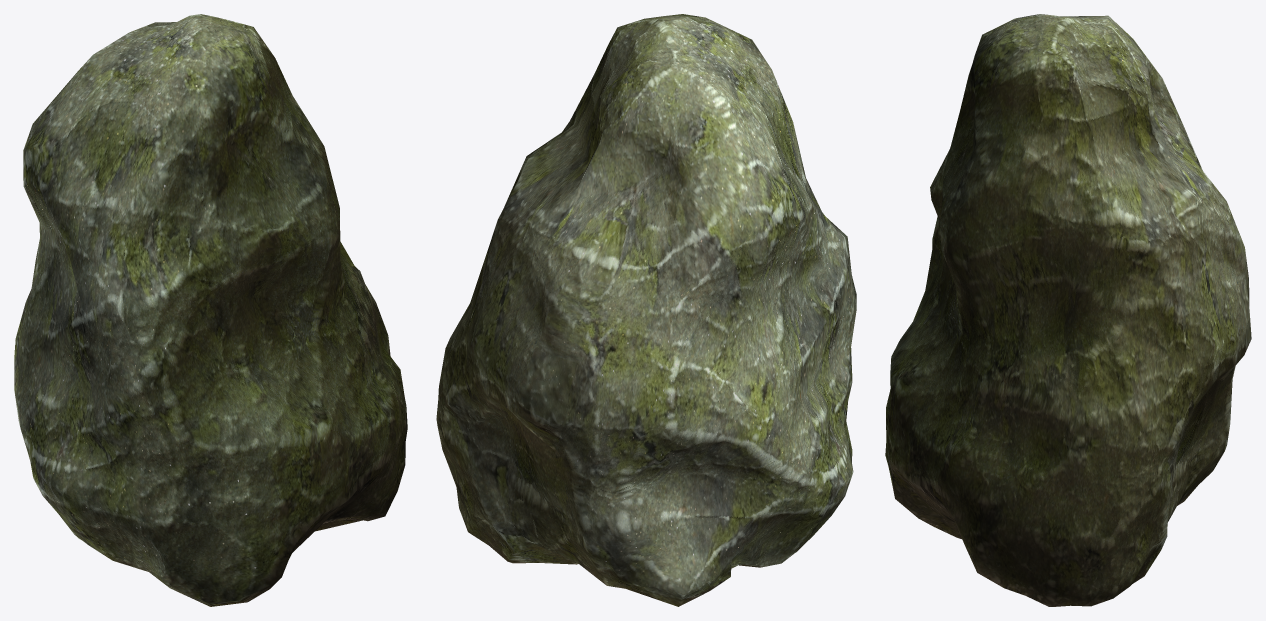
Rendered from rock_4.fbx.
3 renders of one model, left to right at view 1: azimuth 30°, elevation 25°; view 2: azimuth 150°, elevation 25°; view 3: azimuth 270°, elevation 25°, orthographic. The views are drawn at different scales.
Parts seen in each view (by area): view 1: rock_4; view 2: rock_4; view 3: rock_4.
Part boxes in pixels (x1=…): rock_4: x1=14, y1=14, x2=407, y2=606; rock_4: x1=436, y1=14, x2=856, y2=606; rock_4: x1=885, y1=14, x2=1251, y2=606.
Size of the model in its own units: 253 by 365 by 227.
